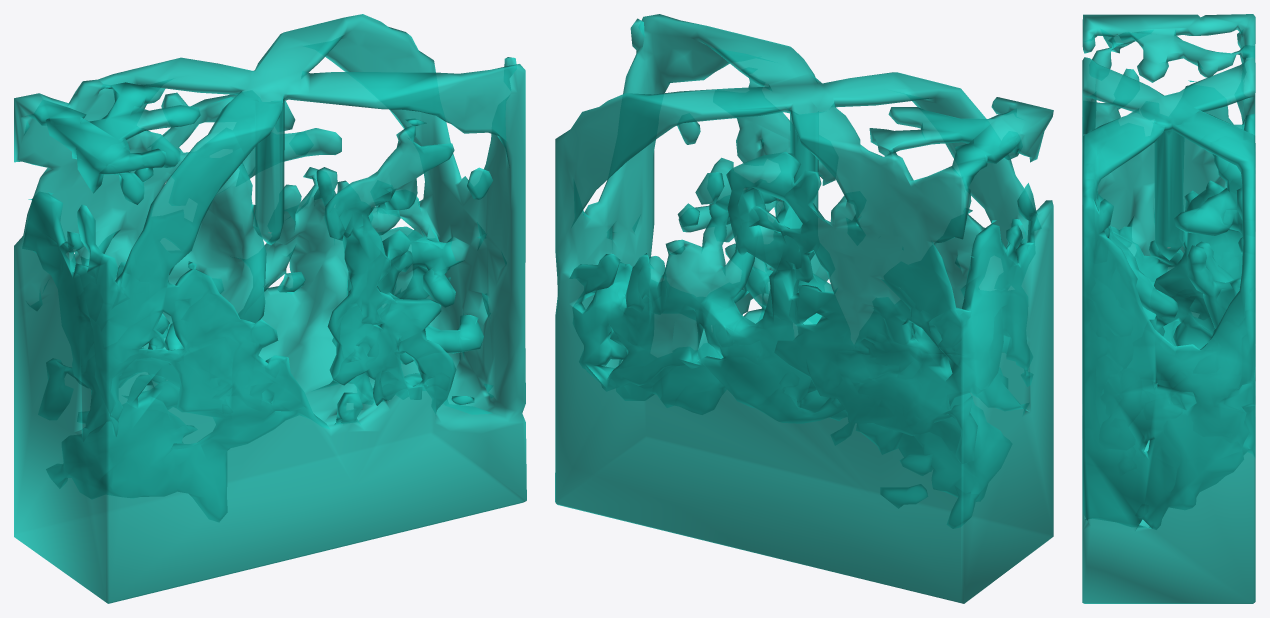
The picture shows the model from 3 angles, left to right: view 1: azimuth 30°, elevation 25°; view 2: azimuth 150°, elevation 25°; view 3: azimuth 270°, elevation 25°; orthographic projection. The views are drawn at different scales.
Parts seen in each view (by area): view 1: Liquid_Domain; view 2: Liquid_Domain; view 3: Liquid_Domain.
Part boxes in pixels (bbox=[...]): Liquid_Domain: bbox=[14, 14, 526, 603]; Liquid_Domain: bbox=[555, 14, 1053, 603]; Liquid_Domain: bbox=[1082, 14, 1255, 603].
Size of the model in its own units: 885 by 884 by 345.
